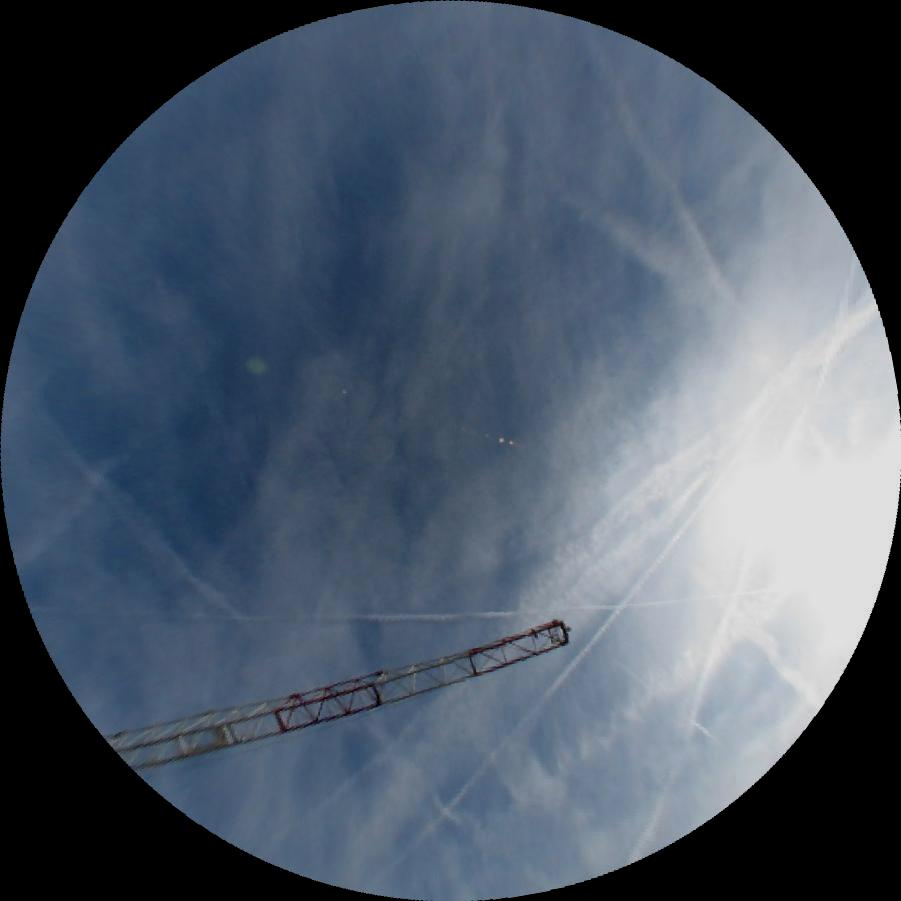contrail young: (814, 256, 860, 397)
sun: (715, 437, 901, 616)
